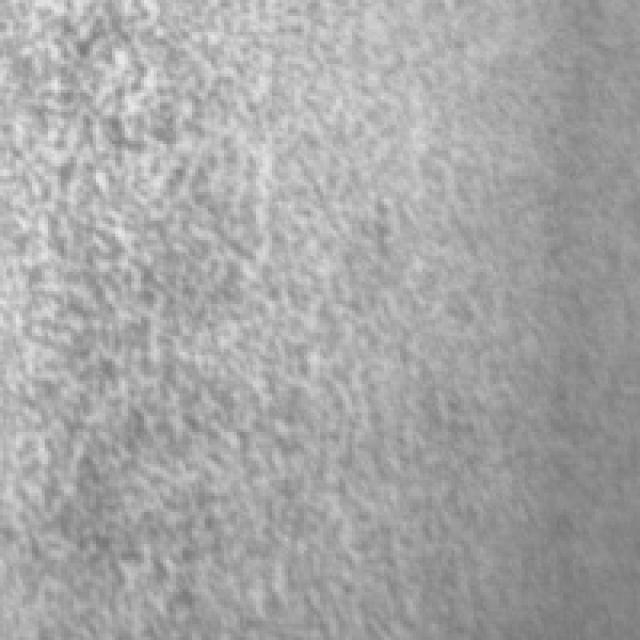pitted_surface: (0, 0, 470, 630)
